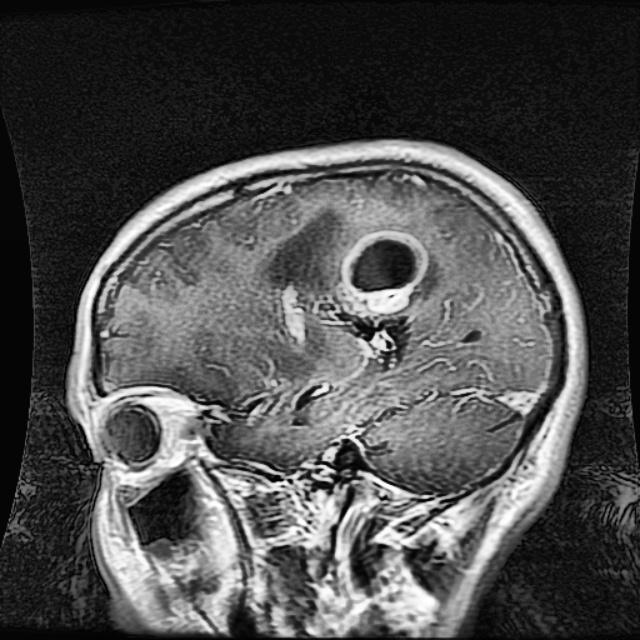Meningioma: (268, 207, 440, 367)
